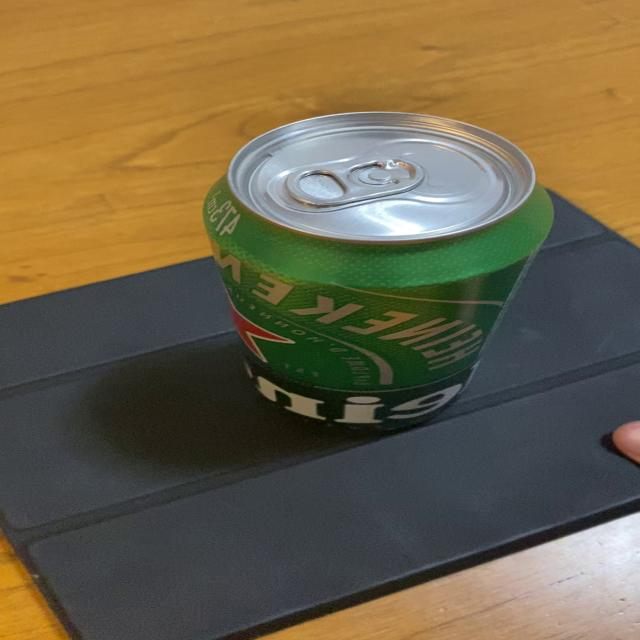metal: (201, 111, 557, 432)
